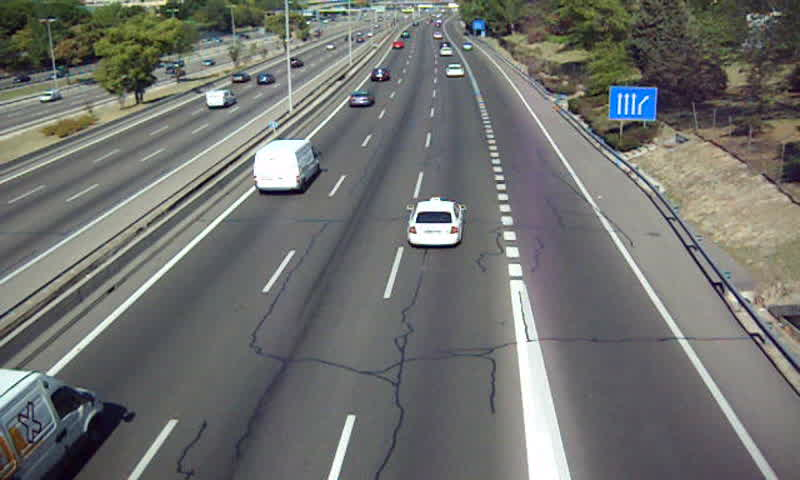car: (408, 199, 461, 246), (348, 91, 373, 110), (371, 66, 391, 84), (444, 63, 466, 78)
van: (253, 140, 320, 193)
